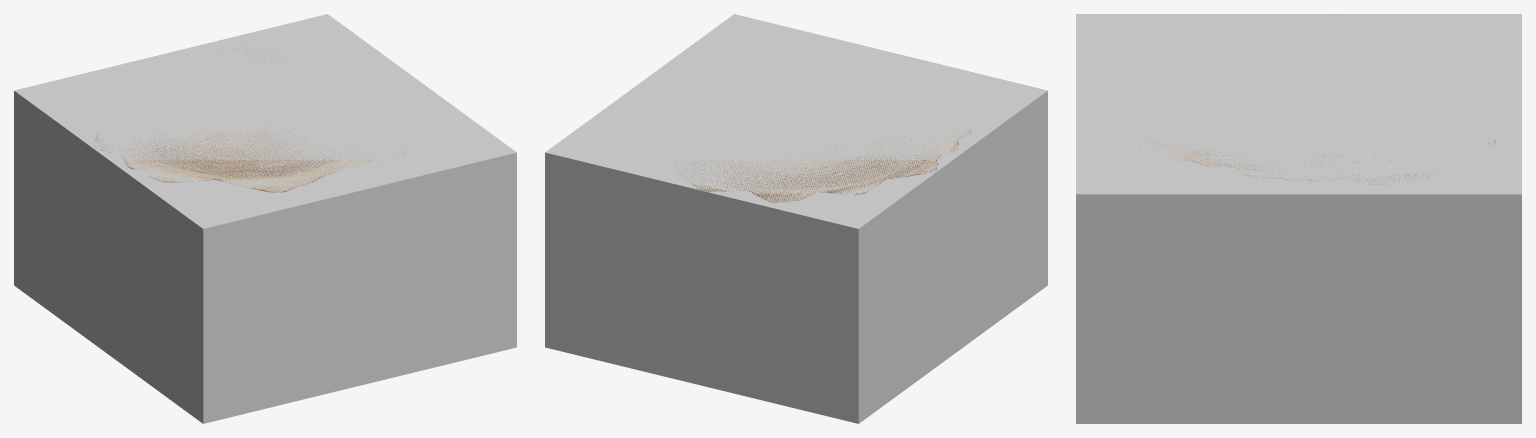
File: Dojo_Display.gltf
3 views of the same model, side by side, from view 1: azimuth 30°, elevation 25°; view 2: azimuth 150°, elevation 25°; view 3: azimuth 270°, elevation 25° (orthographic). The views are drawn at different scales.
Parts seen in each view (by area): view 1: natural_display_table_02_mesh.003_bcol, natural_display_table_02_mesh.003; view 2: natural_display_table_02_mesh.003_bcol, natural_display_table_02_mesh.003; view 3: natural_display_table_02_mesh.003_bcol.
Boxes of the visible parts, left/top/right/bottom form: natural_display_table_02_mesh.003_bcol: left=14, top=14, right=516, bottom=423; natural_display_table_02_mesh.003: left=95, top=44, right=405, bottom=192; natural_display_table_02_mesh.003_bcol: left=545, top=14, right=1047, bottom=423; natural_display_table_02_mesh.003: left=636, top=129, right=970, bottom=202; natural_display_table_02_mesh.003_bcol: left=1076, top=14, right=1521, bottom=423.
Bounding box in the file's own units: 0.9654 × 0.5733 × 1.01.
1 material, 1 textured.
